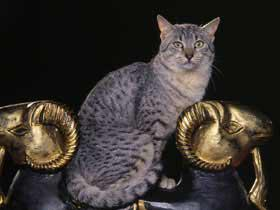cat-Egyptian_Mau: (156, 12, 218, 68)
